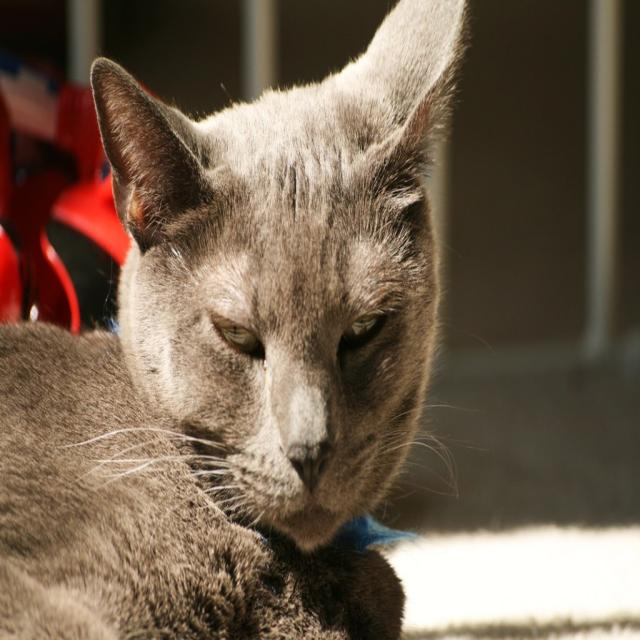Cat: (0, 0, 476, 638)
